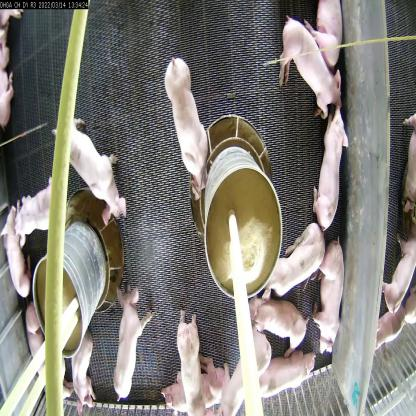Pig: (273, 10, 354, 124), (54, 113, 123, 236), (163, 49, 207, 196), (252, 215, 326, 295), (316, 111, 353, 246), (316, 247, 350, 366), (159, 353, 223, 416), (256, 282, 315, 346), (108, 290, 144, 394), (25, 306, 62, 407), (223, 323, 262, 415), (7, 180, 65, 239), (67, 334, 107, 415), (306, 3, 352, 68), (180, 304, 206, 416), (256, 348, 315, 394), (5, 212, 32, 297)
